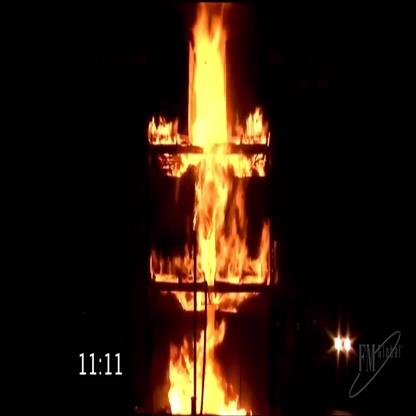Fire: (147, 0, 274, 416)
